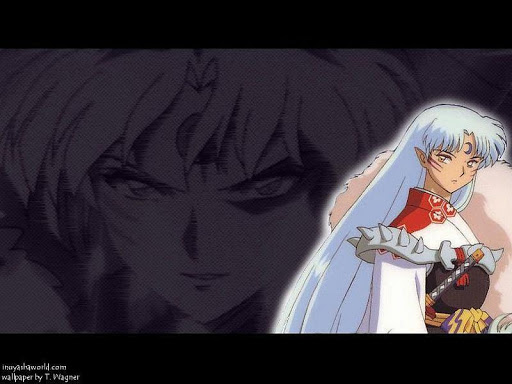sesshomaru: (372, 103, 512, 222)
